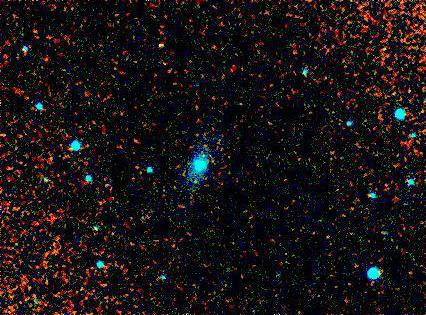star: (148, 32, 178, 62)
